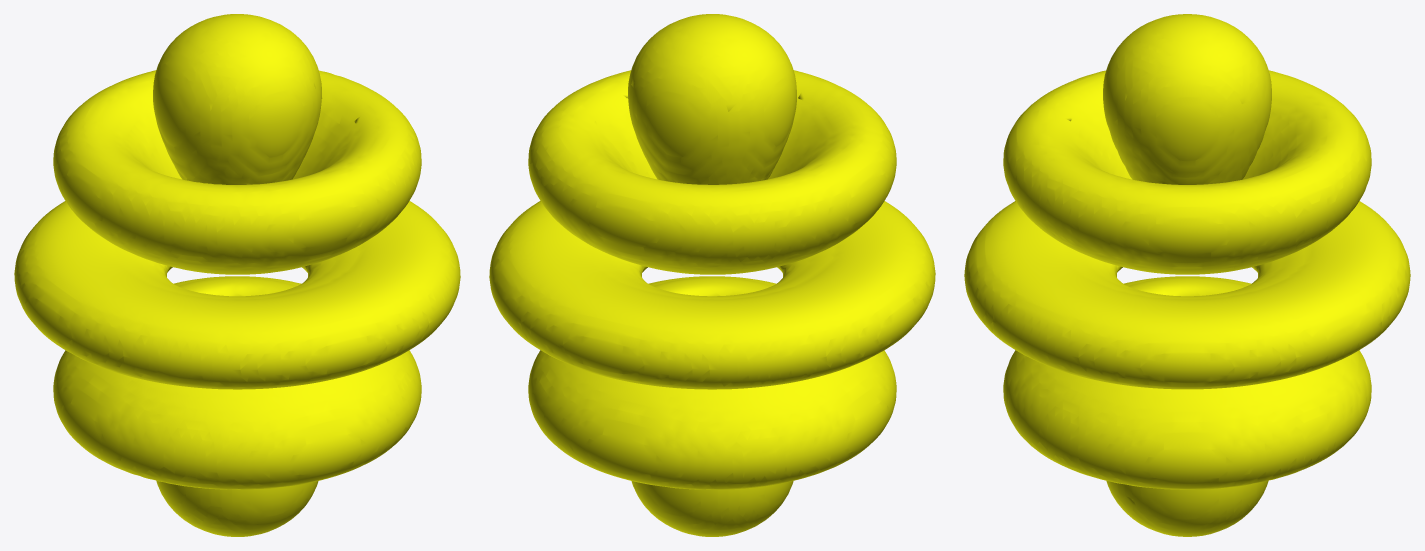
Rendered from orb_n=5_ l=4 _m=0.fbx.
The picture shows the model from 3 angles, left to right: view 1: azimuth 30°, elevation 25°; view 2: azimuth 150°, elevation 25°; view 3: azimuth 270°, elevation 25°; orthographic projection.
Visible parts, largest first — view 1: orb_n=5_ l=4 _m=0; view 2: orb_n=5_ l=4 _m=0; view 3: orb_n=5_ l=4 _m=0.
Boxes of the visible parts, <box> form: orb_n=5_ l=4 _m=0: <box>14,14,460,536</box>; orb_n=5_ l=4 _m=0: <box>489,14,935,536</box>; orb_n=5_ l=4 _m=0: <box>964,14,1410,536</box>.
Bounding box in the file's own units: 8413 × 10505 × 8413.
